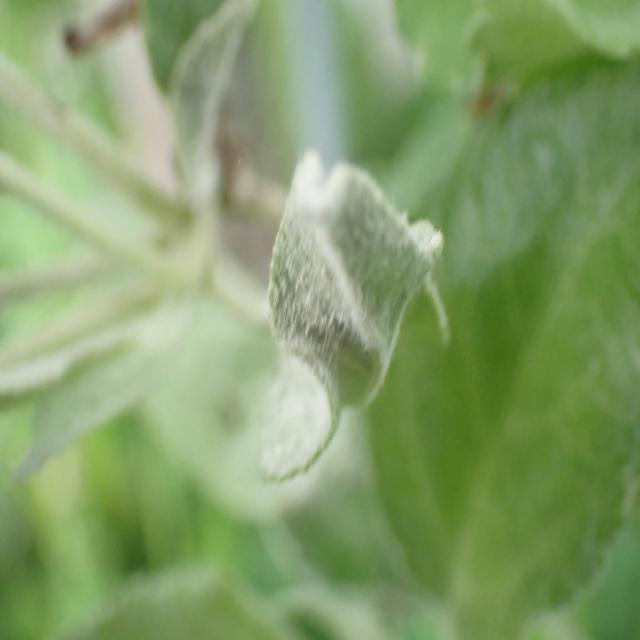Powdery_mildew: (224, 146, 448, 493)
